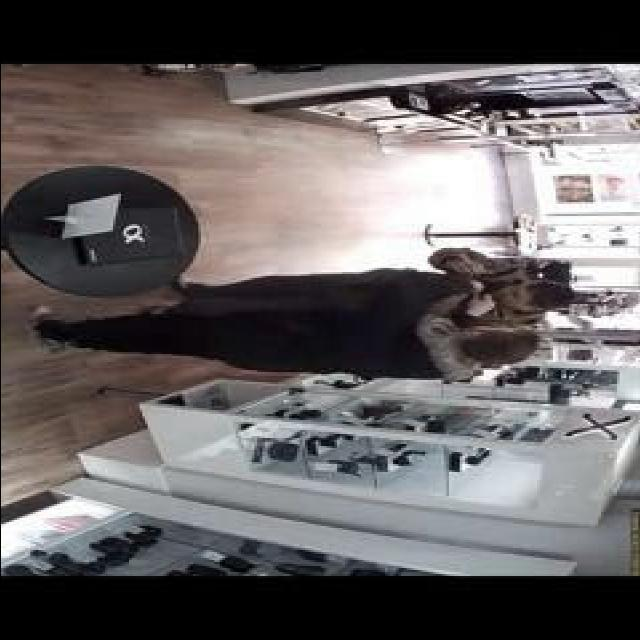Shoplifting: (222, 222, 578, 385)
